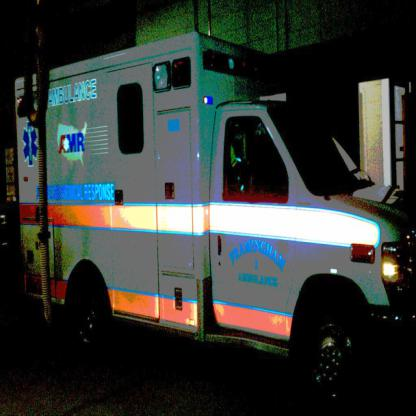Ambulance: (15, 27, 415, 408)
